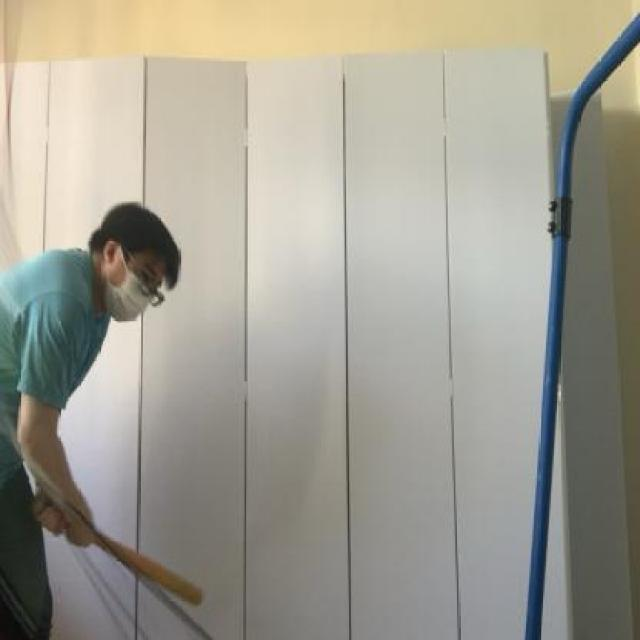baseball: (0, 287, 38, 404)
